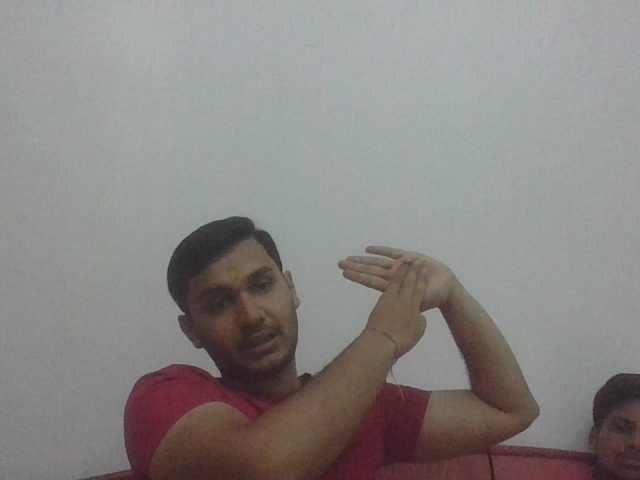M: (331, 242, 451, 328)
